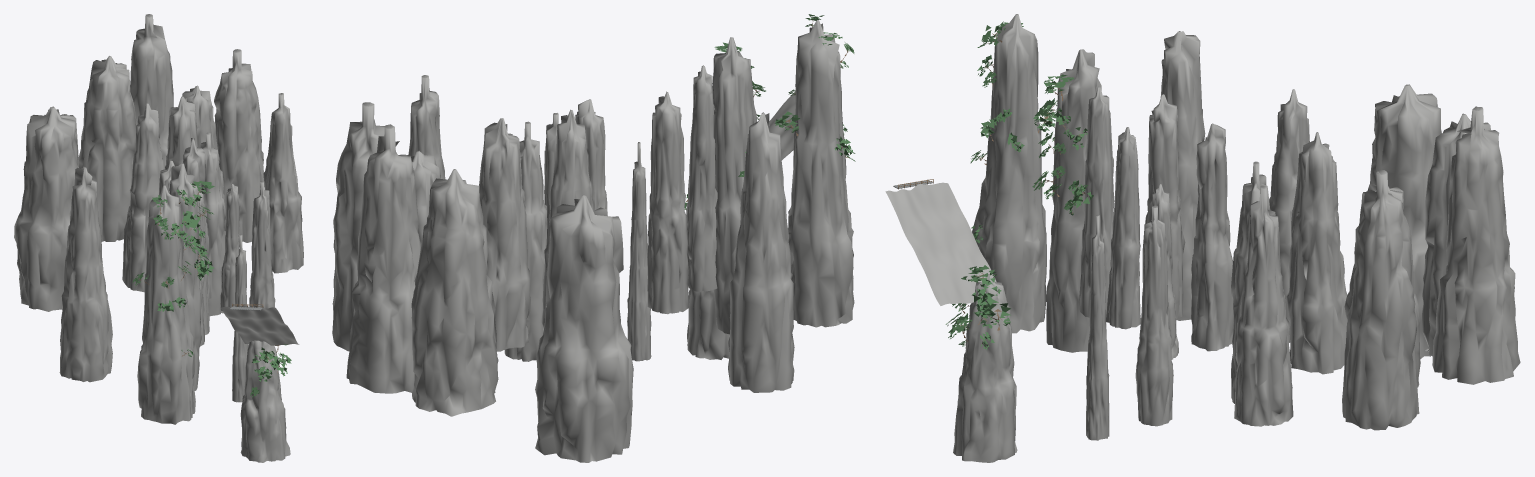
The model's file is huangshan.glb.
3 views of the same model, side by side, from view 1: azimuth 30°, elevation 25°; view 2: azimuth 150°, elevation 25°; view 3: azimuth 270°, elevation 25° (orthographic). The views are drawn at different scales.
Parts seen in each view (by area): view 1: spire_00, spire_11, spire_13, spire_12, spire_r4, spire_r3, spire_08, spire_05, spire_r5, spire_01, spire_r2, spire_r1 (+8 smaller); view 2: spire_11, spire_12, spire_00, spire_r5, spire_13, spire_09, spire_01, spire_04, spire_r4, spire_02, spire_r2, spire_r0 (+7 smaller); view 3: spire_r5, spire_00, spire_r4, spire_09, spire_r3, spire_01, spire_05, spire_06, spire_11, slope, spire_r1, spire_13 (+9 smaller).
Part boxes in pixels (x1,y1,x2,y2): spire_00: (137,185,195,424); spire_11: (14,106,78,311); spire_13: (59,166,112,382); spire_12: (78,56,136,241); spire_r4: (214,49,264,242); spire_r3: (263,93,303,273); spire_08: (122,103,164,292); spire_05: (240,340,290,462); spire_r5: (130,14,173,169); spire_01: (169,163,201,390); spire_r2: (200,132,225,316); spire_r1: (249,181,275,308); spire_11: (535,195,633,462); spire_12: (411,169,498,416); spire_00: (788,20,854,327); spire_r5: (346,124,420,393); spire_13: (728,112,794,392); spire_09: (479,118,530,351); spire_01: (712,37,756,334); spire_04: (647,91,688,314); spire_r4: (332,102,384,351); spire_02: (686,65,717,291); spire_r2: (504,121,547,361); spire_r0: (627,142,651,361); spire_r5: (1432,106,1520,384); spire_00: (972,14,1046,333); spire_r4: (1342,169,1419,430); spire_09: (1286,132,1347,374); spire_r3: (1234,185,1293,426); spire_01: (1046,49,1101,352); spire_05: (953,274,1017,462); spire_06: (1191,123,1233,351); spire_11: (1370,84,1441,358); slope: (885,182,996,305); spire_r1: (1135,205,1173,426); spire_13: (1160,31,1205,320).
Size of the model in its own units: 106 by 105 by 157.
